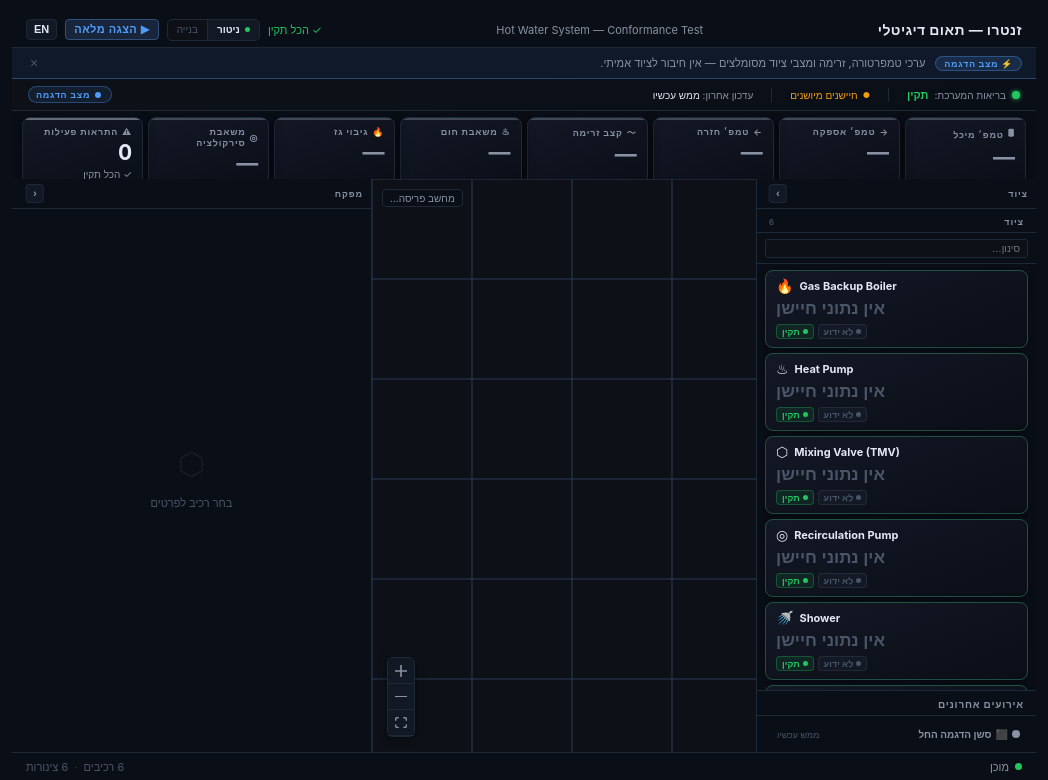
Scenario: Build Mode › clicking a palette type shows placing banner
This screenshot has width=1048, height=780.
Click the button with test id "mode-build-btn" at (187, 30), box [168,20,207,40]
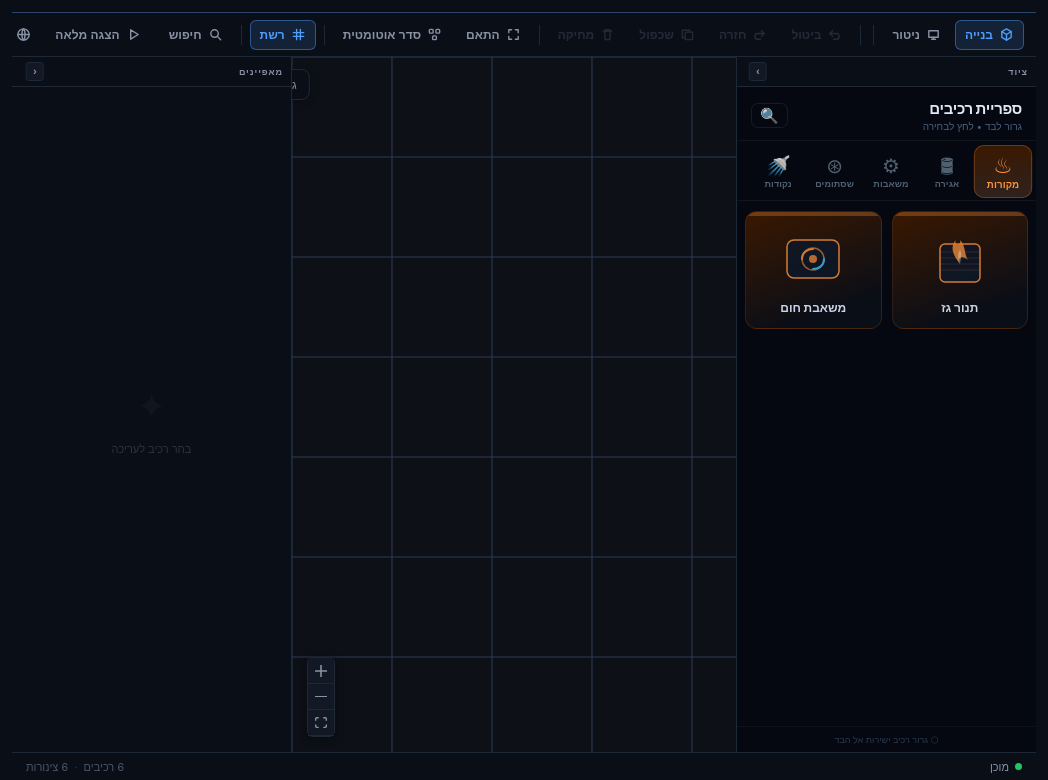
Click the element with test id "palette-item-heat_pump" at (813, 270), box [745,211,882,329]
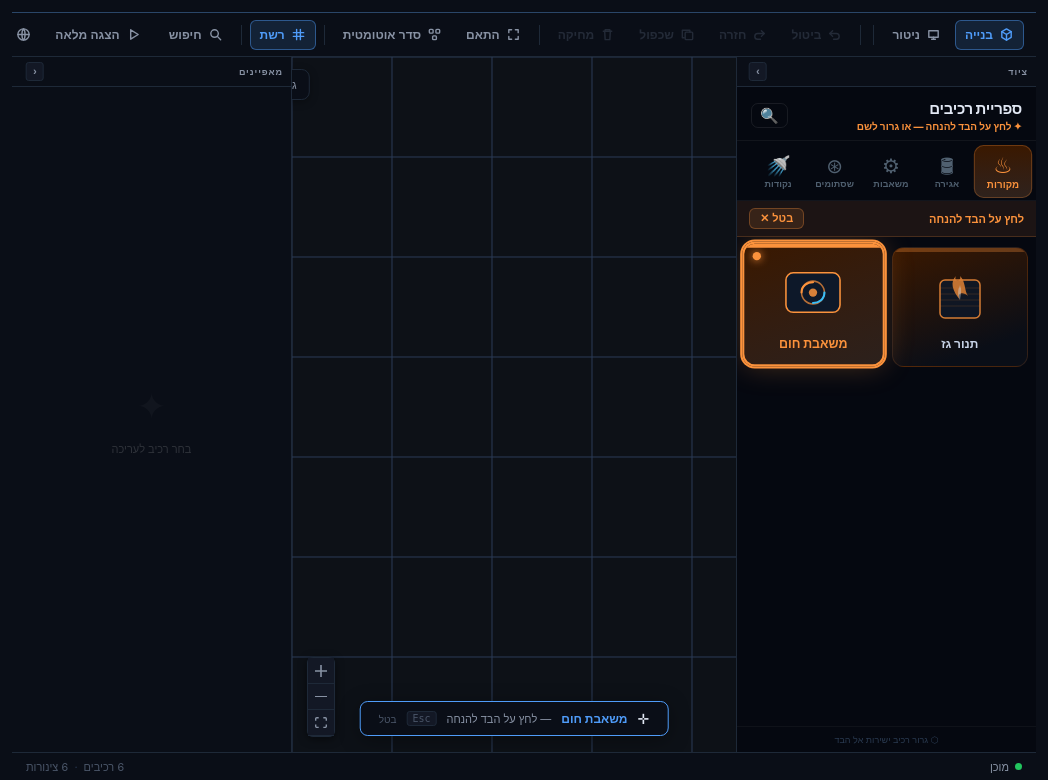
Expected: the element with test id "builder-placing-banner" is shown, [737,201,1036,237]
